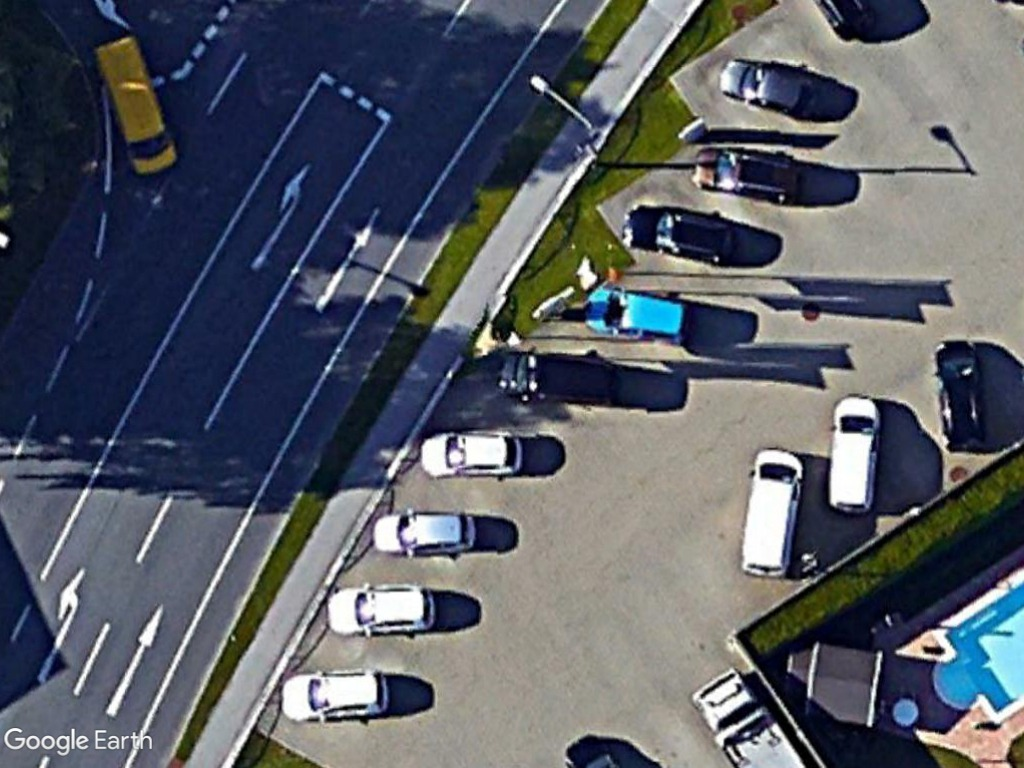car: (619, 200, 738, 266), (928, 334, 990, 455), (500, 348, 619, 411), (717, 55, 826, 122), (825, 393, 883, 516), (689, 143, 804, 205), (279, 666, 391, 726), (324, 582, 440, 638), (584, 286, 692, 345), (416, 428, 527, 482), (370, 508, 478, 562)
van: (88, 32, 180, 180), (739, 446, 806, 577)
